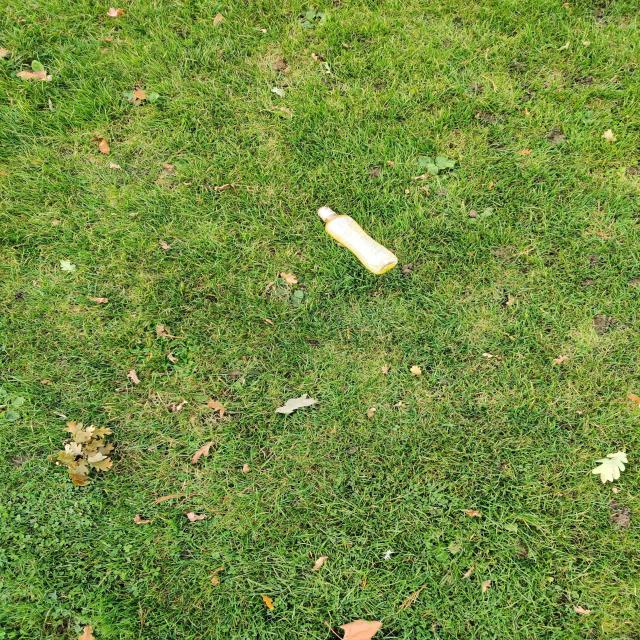litter: (308, 197, 408, 279)
